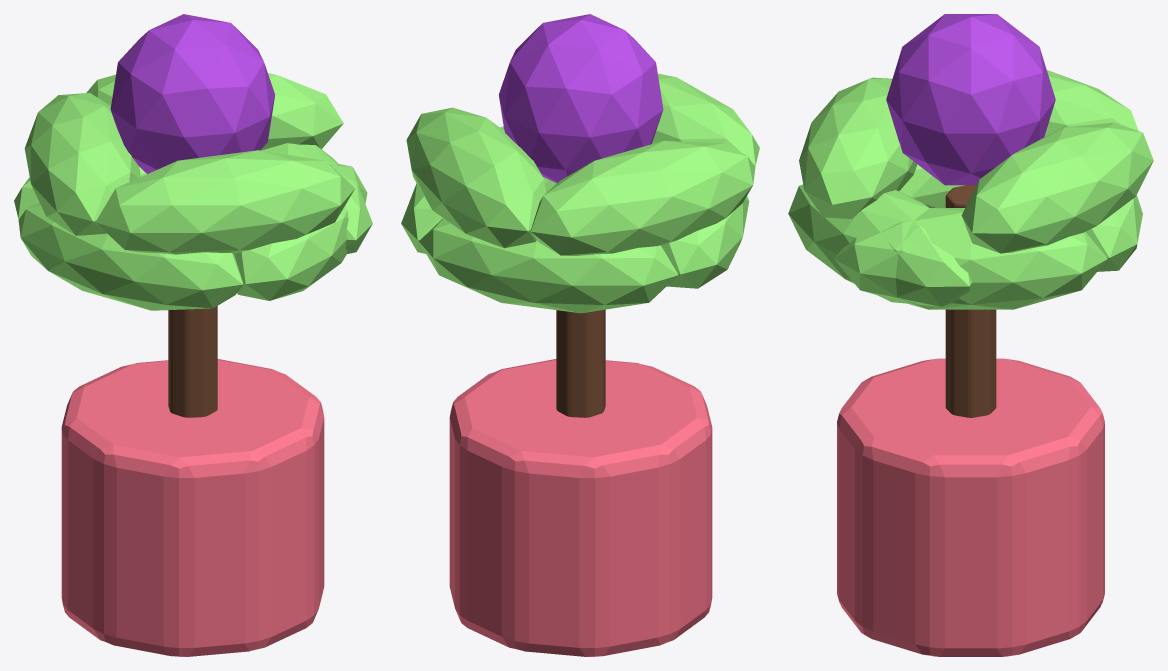
File: plant.glb
3 renders of one model, left to right at view 1: azimuth 30°, elevation 25°; view 2: azimuth 150°, elevation 25°; view 3: azimuth 270°, elevation 25°, orthographic.
Parts seen in each view (by area): view 1: MoonPlantMesh; view 2: MoonPlantMesh; view 3: MoonPlantMesh.
Part boxes in pixels (x1=…): MoonPlantMesh: x1=14, y1=14, x2=372, y2=656; MoonPlantMesh: x1=401, y1=14, x2=759, y2=656; MoonPlantMesh: x1=788, y1=14, x2=1153, y2=656.
Size of the model in its own units: 1.09 by 2 by 1.12.
